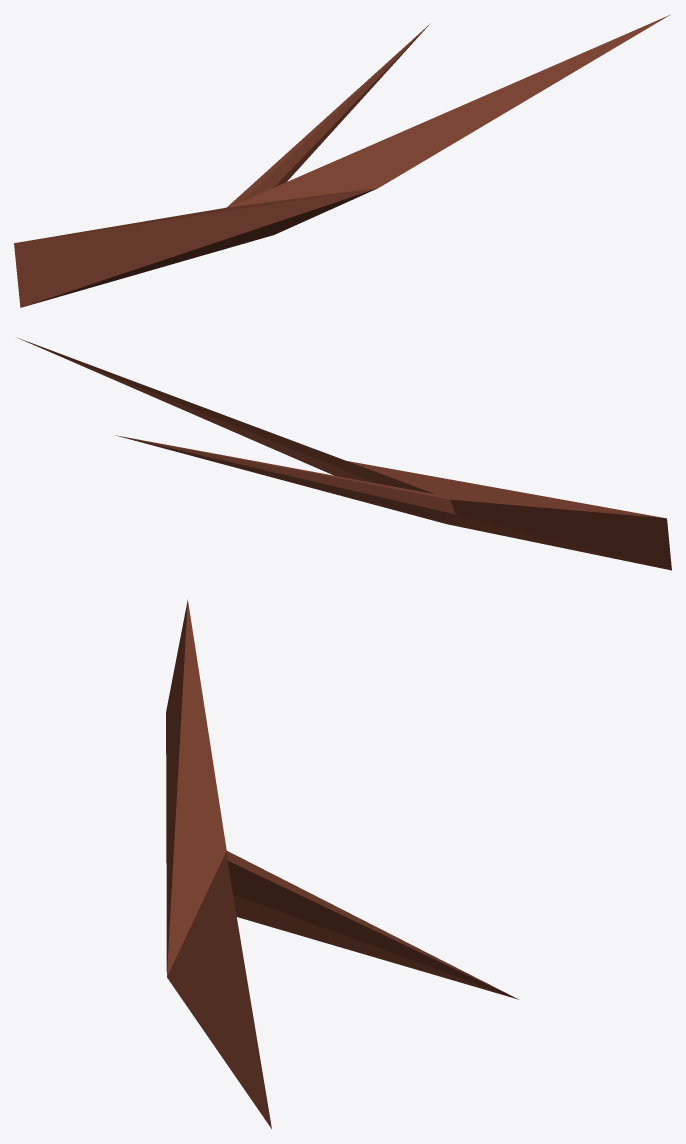
Rendered from pine_branch_type_5_LOD1.fbx.
3 renders of one model, top to bottom at view 1: azimuth 30°, elevation 25°; view 2: azimuth 150°, elevation 25°; view 3: azimuth 270°, elevation 25°, orthographic. The views are drawn at different scales.
Visible parts, largest first — view 1: Circle.034; view 2: Circle.034; view 3: Circle.034.
Part boxes in pixels (<box>): Circle.034: <box>14,14,670,307</box>; Circle.034: <box>18,338,671,570</box>; Circle.034: <box>166,599,518,1128</box>.
Size of the model in its own units: 309 by 46.47 by 74.95.
